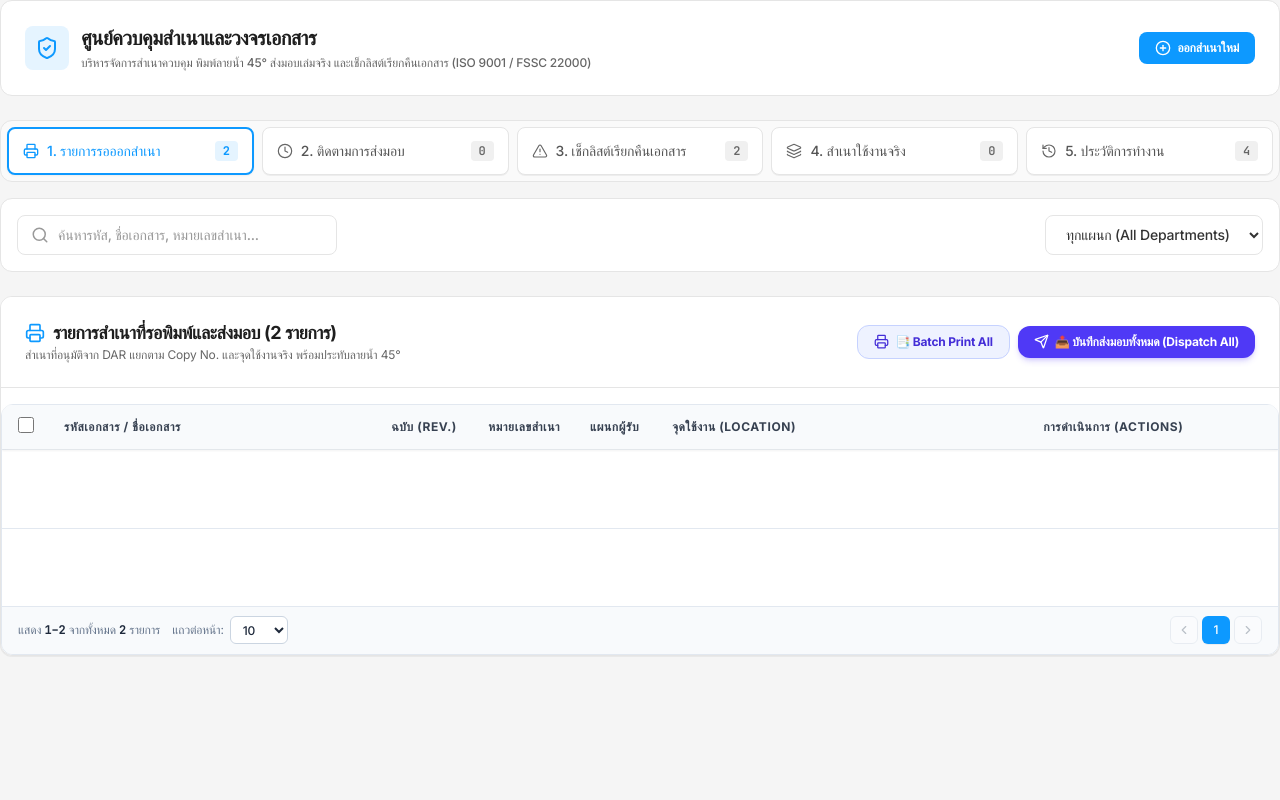
it: ISO 9001 / FSSC 22000 Universal Superseded Copy Recall Engine Tests › 4. ControlledCopyRegister UI: Renders Tab 3 Recall Checklist with both MKT and EN copies and action buttons
Note: Switch to Tab 3: Recall Checklist
Click the text "3. เช็กลิสต์เรียกคืนเอกสาร" at coordinates (621, 150), box [556,140,686,160]
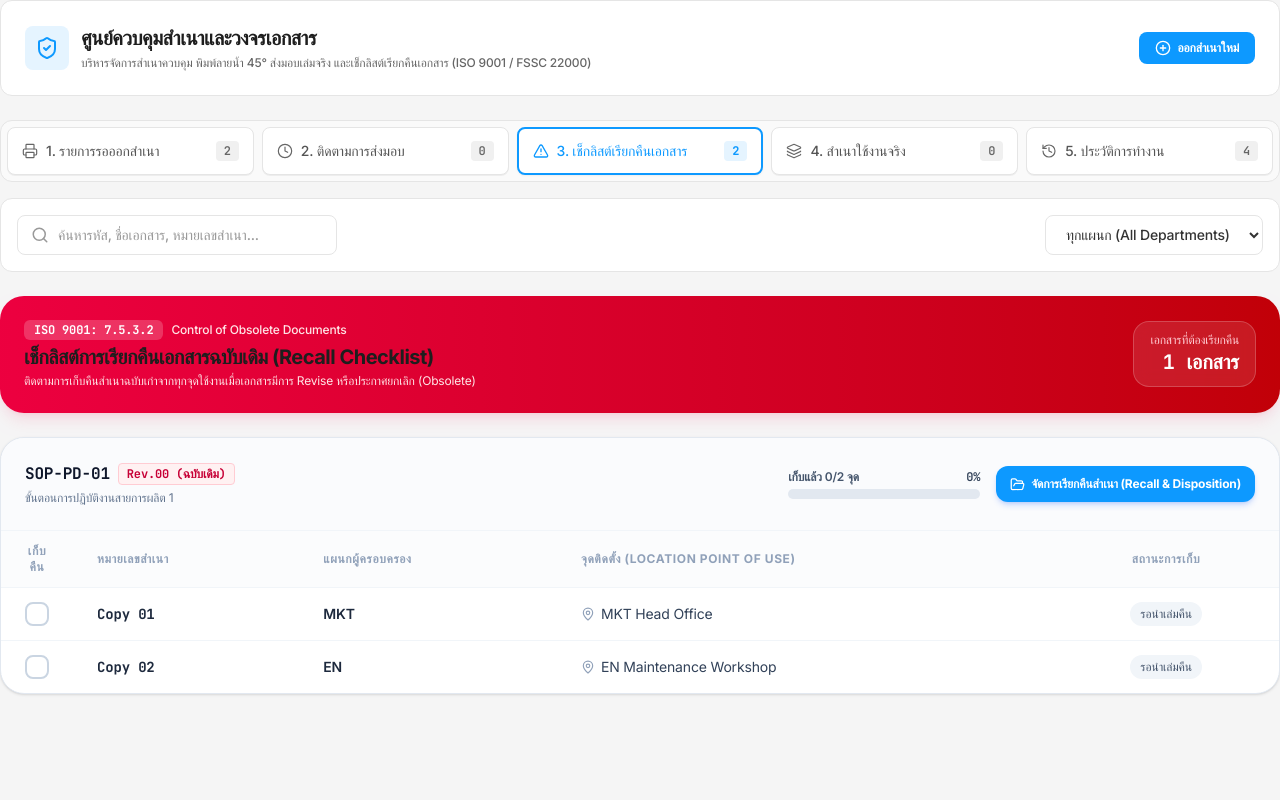
Check: the heading "เช็กลิสต์การเรียกคืนเอกสารฉบับเดิม (Recall Checklist)" is shown, box [24,344,476,371]
Check: the text "SOP-PD-01" is shown, box [25,462,110,486]
Check: the text "MKT Head Office" is shown, box [581,605,712,622]
Note: Clicking the modal trigger should not crash the component
Click the button "จัดการเรียกคืนสำเนา (Recall & Disposition)" at coordinates (1126, 484), box [996,466,1255,502]
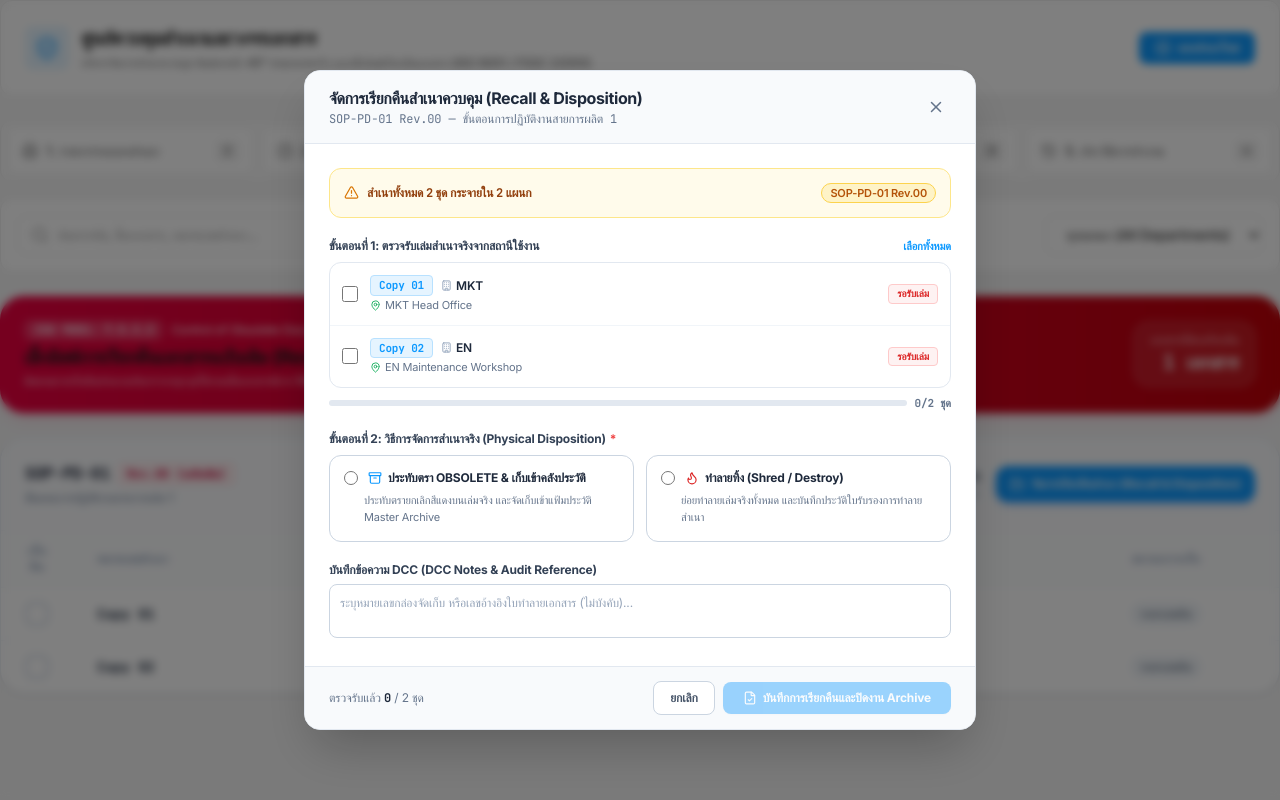
Check: the heading "จัดการเรียกคืนสำเนาควบคุม (Recall & Disposition)" is shown, box [329,87,642,109]
Check: the text "ขั้นตอนที่ 1: ตรวจรับเล่มสำเนาจริงจากสถานีใช้งาน" is shown, box [329,238,539,254]
Check: the button "บันทึกการเรียกคืนและปิดงาน Archive" is disabled, box [723,682,951,714]
